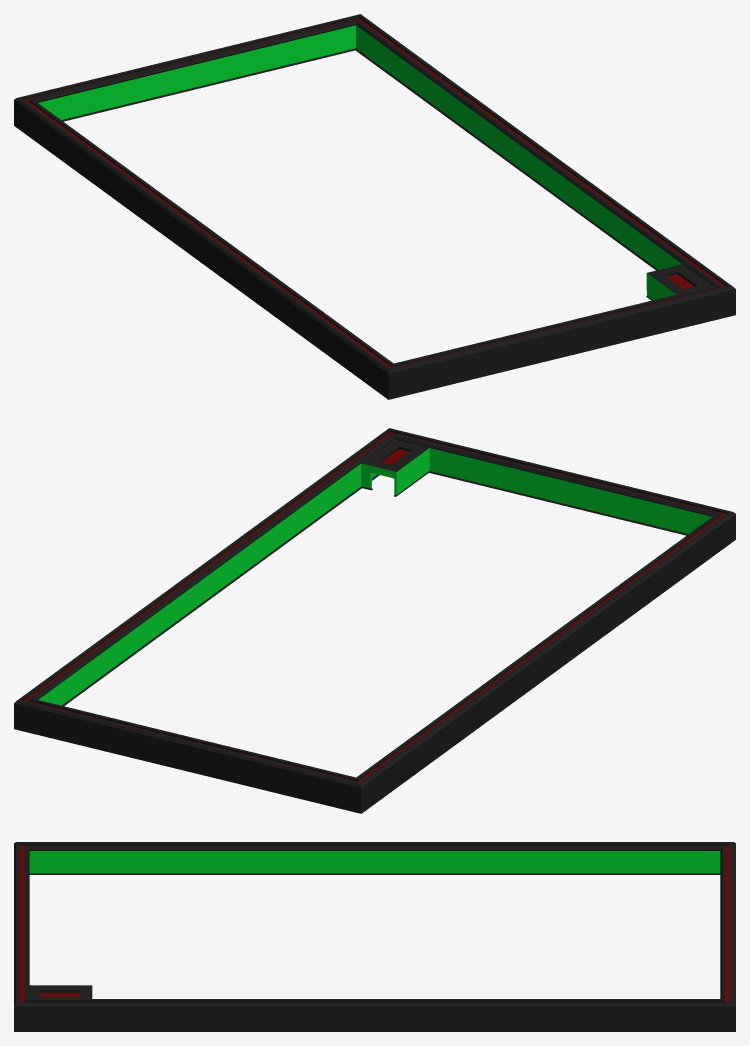
The model's file is FlipperkastFrame.FBX.
3 renders of one model, top to bottom at view 1: azimuth 30°, elevation 25°; view 2: azimuth 150°, elevation 25°; view 3: azimuth 270°, elevation 25°, orthographic. The views are drawn at different scales.
Parts seen in each view (by area): view 1: FlipperkastFrame; view 2: FlipperkastFrame; view 3: FlipperkastFrame.
Part boxes in pixels (<box>): FlipperkastFrame: <box>14,14,735,399</box>; FlipperkastFrame: <box>14,428,735,813</box>; FlipperkastFrame: <box>14,842,735,1031</box>.
Size of the model in its own units: 4.9 by 0.3792 by 9.15.
